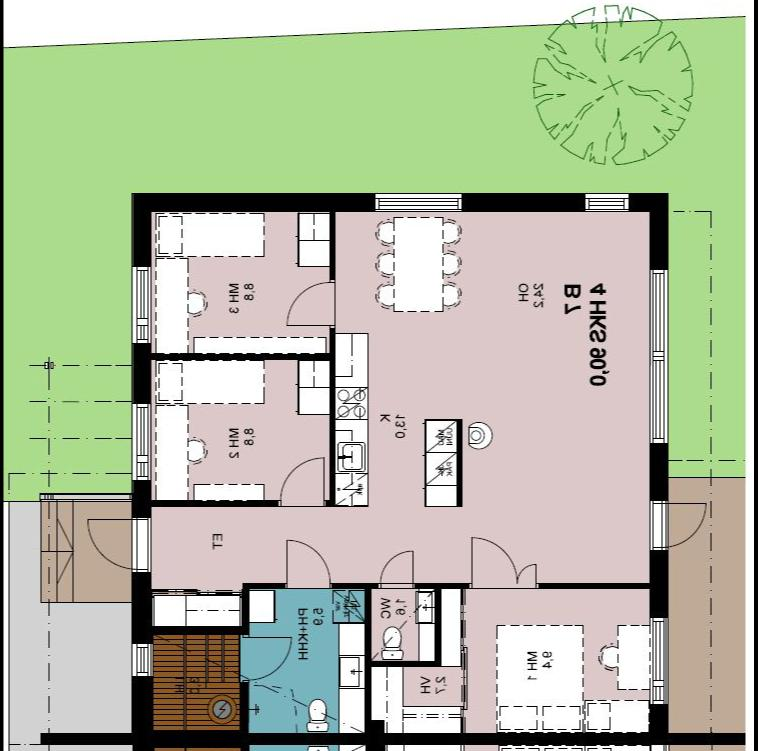bathroom: (250, 590, 364, 734), (370, 590, 435, 661)
door: (83, 513, 152, 573), (466, 532, 520, 590), (654, 498, 712, 551), (285, 278, 338, 332), (284, 537, 334, 594), (279, 455, 327, 508), (376, 547, 417, 592), (518, 562, 542, 590)
perimeter: (131, 189, 670, 744)
window: (645, 264, 675, 449), (368, 188, 464, 212), (650, 612, 673, 710), (130, 260, 154, 348), (135, 398, 154, 485), (129, 634, 156, 682), (583, 190, 633, 214)
